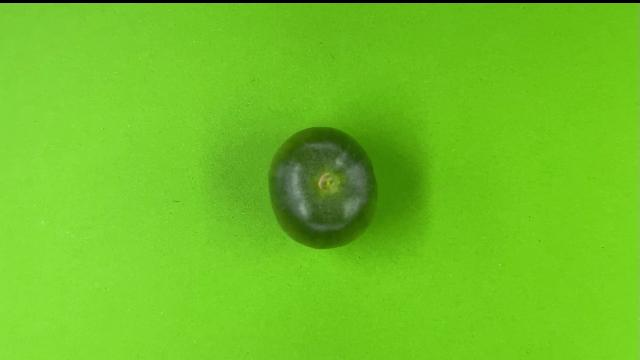Fruit Maturation: (265, 125, 380, 251)
